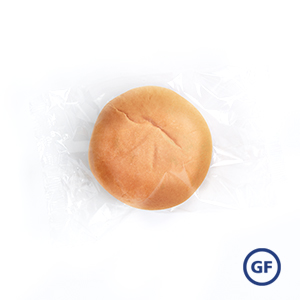hamburger_buns: (87, 86, 224, 210)
